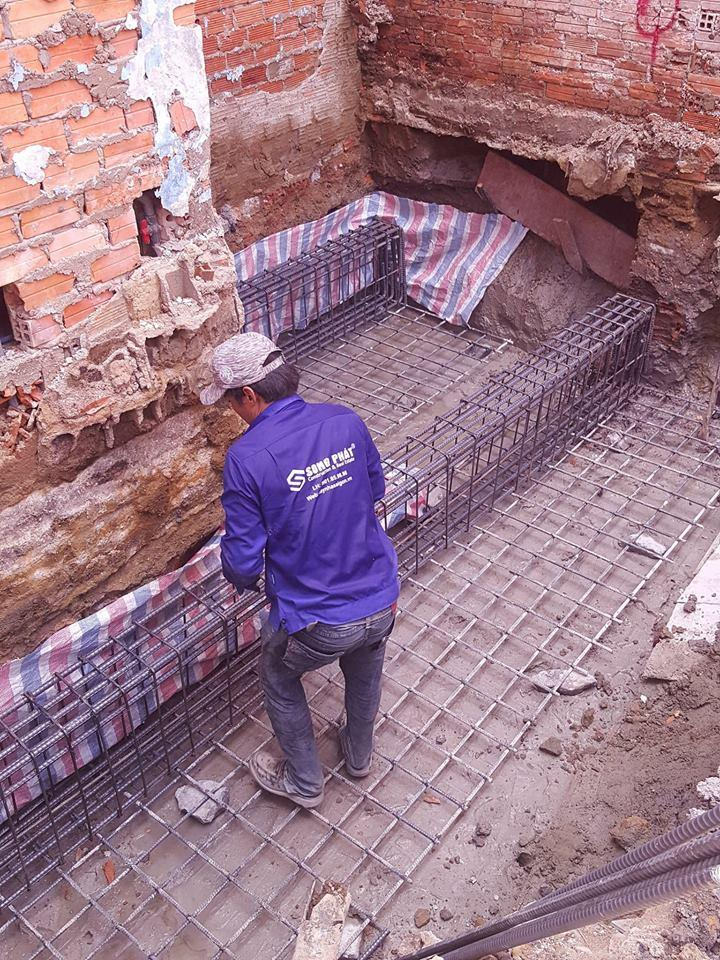Helmet: (201, 336, 289, 397)
Person: (198, 330, 400, 809)
Safety Boot: (244, 753, 320, 813)
no-vest: (218, 394, 400, 636)
